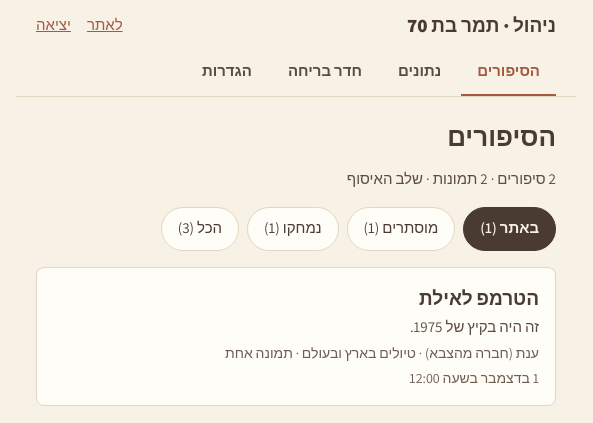
it: admin pages › filters hidden and deleted stories
Click the button "נמחקו (1)". click: (293, 229)
box: top-left (247, 207), bottom-right (339, 251)
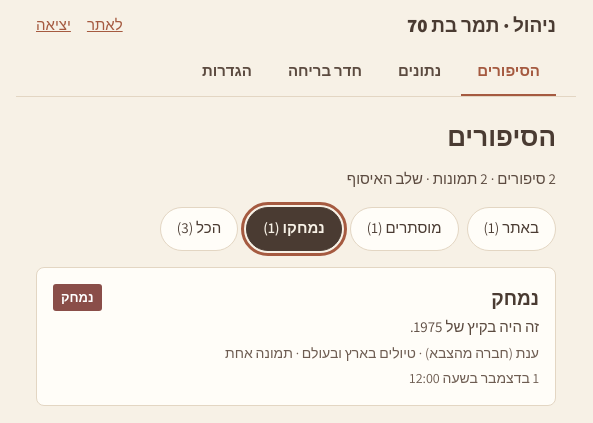
Now the 2nd text "נמחק" is shown, box top-left (491, 284), bottom-right (539, 312)
Now the link "הטרמפ לאילת" is gone
